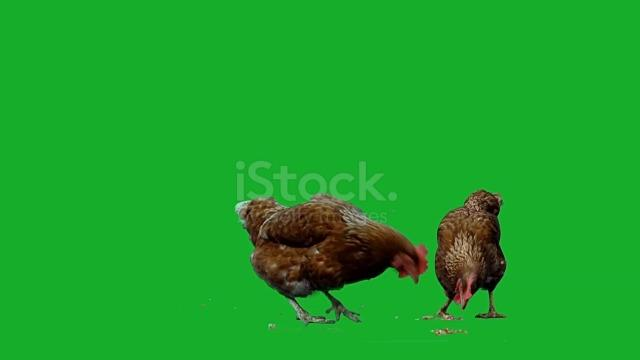Normal: (236, 187, 431, 319), (439, 190, 513, 323)
